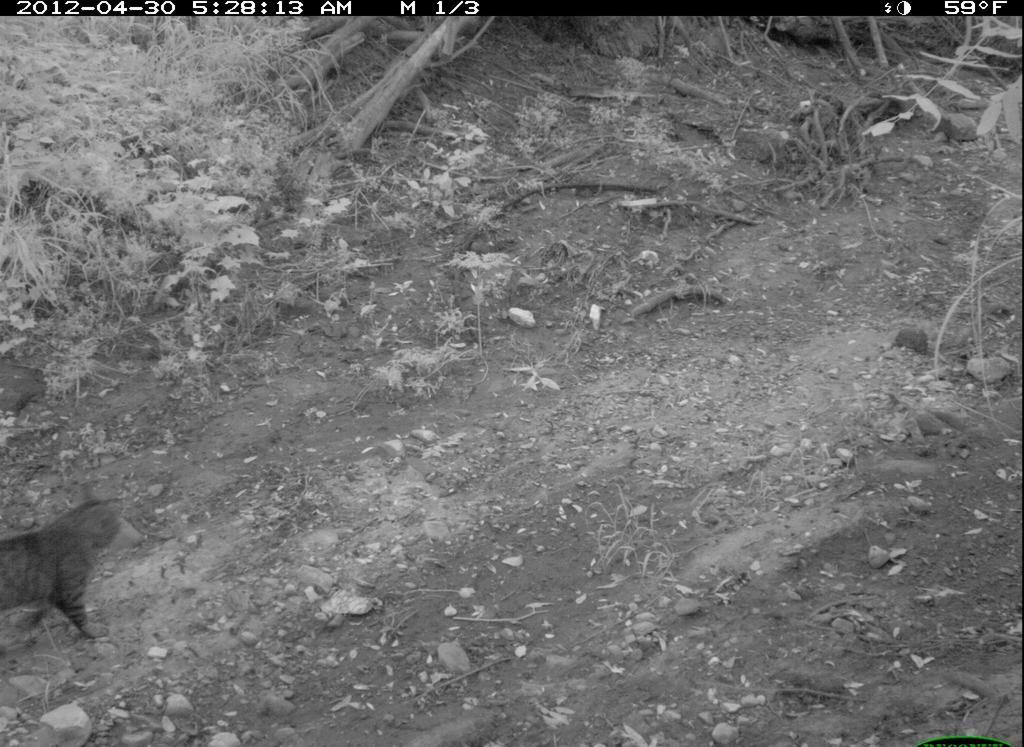cat: (1, 472, 153, 654)
